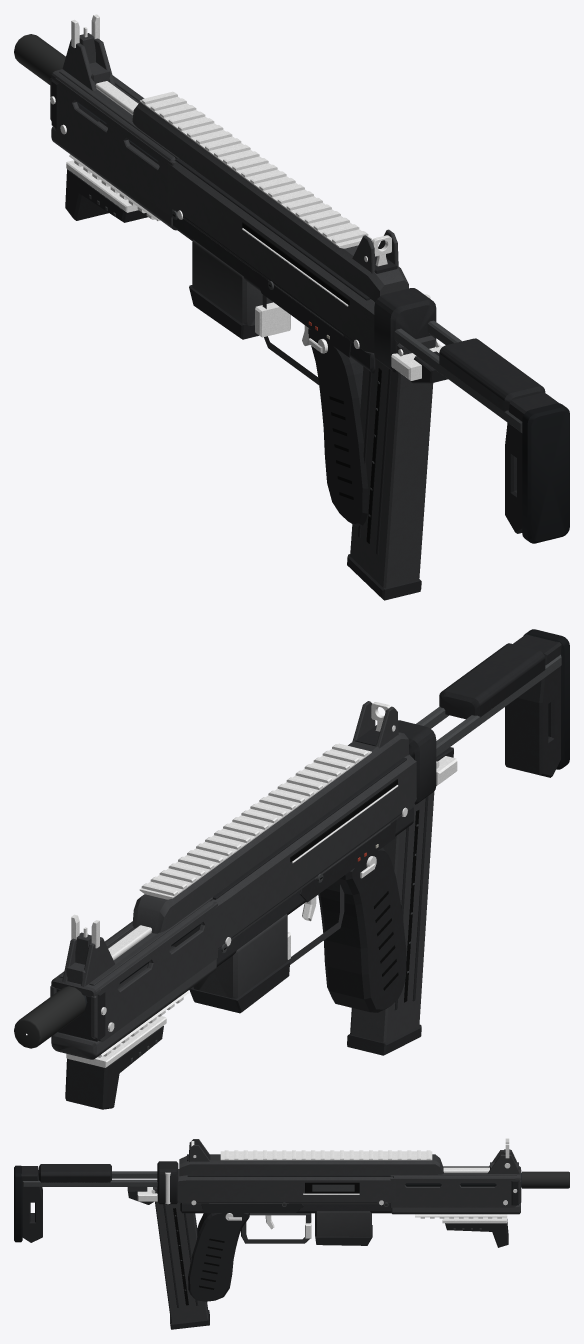
File: weapon-80-BqTxKfvx.glb
3 views of the same model, one above another, from view 1: azimuth 30°, elevation 25°; view 2: azimuth 150°, elevation 25°; view 3: azimuth 270°, elevation 25° (orthographic). The views are drawn at different scales.
Visible parts, largest first — view 1: salient_weapon_body, salient_weapon_stock, salient_weapon_magazine, salient_weapon_iron; view 2: salient_weapon_body, salient_weapon_stock, salient_weapon_magazine, salient_weapon_iron; view 3: salient_weapon_body, salient_weapon_stock, salient_weapon_magazine, salient_weapon_iron.
Part boxes in pixels (<box>): salient_weapon_body: <box>14,34,408,526</box>; salient_weapon_stock: <box>374,288,569,543</box>; salient_weapon_magazine: <box>347,335,436,600</box>; salient_weapon_iron: <box>62,14,398,273</box>; salient_weapon_body: <box>14,732,416,1109</box>; salient_weapon_stock: <box>398,629,569,804</box>; salient_weapon_magazine: <box>347,791,434,1055</box>; salient_weapon_iron: <box>62,701,398,986</box>; salient_weapon_body: <box>177,1150,569,1301</box>; salient_weapon_stock: <box>14,1161,178,1242</box>; salient_weapon_magazine: <box>153,1187,209,1329</box>; salient_weapon_iron: <box>187,1138,520,1174</box>.
Bounding box in the file's own units: 0.0346 × 0.2106 × 0.578.
22 materials, 14 textured.
